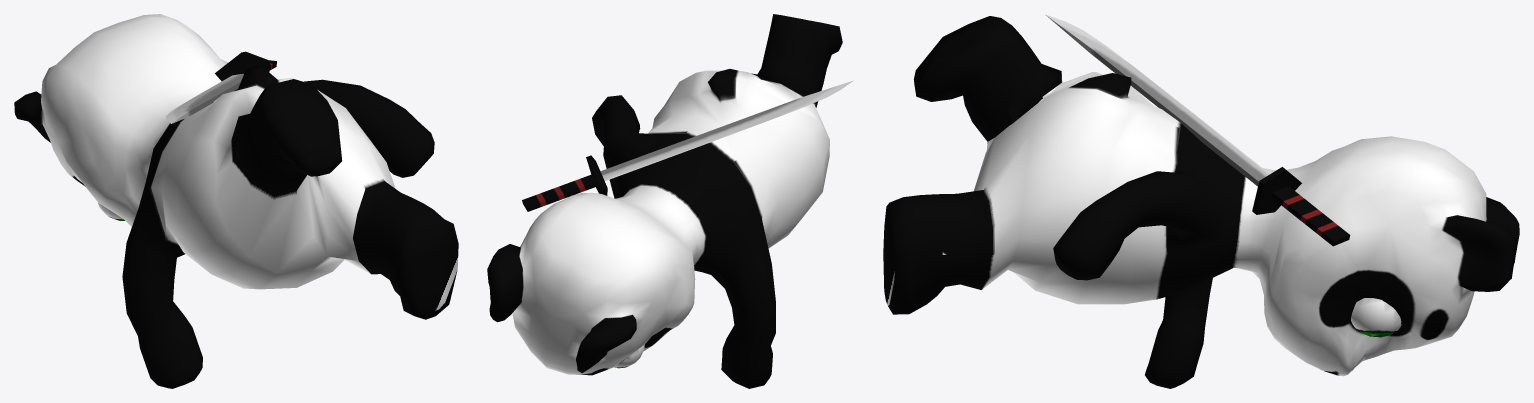
Rendered from Panda_oneMesh.FBX.
3 views of the same model, side by side, from view 1: azimuth 30°, elevation 25°; view 2: azimuth 150°, elevation 25°; view 3: azimuth 270°, elevation 25° (orthographic). The views are drawn at different scales.
Parts seen in each view (by area): view 1: Sphere001; view 2: Sphere001; view 3: Sphere001.
Boxes of the visible parts, x1=… form: Sphere001: x1=14, y1=14, x2=458, y2=388; Sphere001: x1=487, y1=14, x2=853, y2=388; Sphere001: x1=883, y1=14, x2=1519, y2=388.
Bounding box in the file's own units: 12.39 × 15.13 × 23.1.
1 material, 1 textured.
